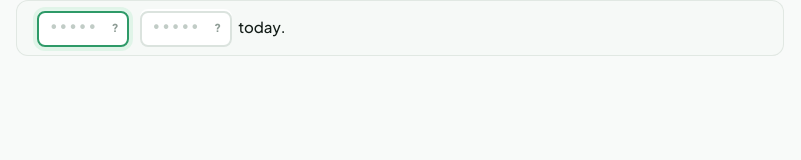
it: FillInBlanksDictation › updates enterKeyHint to 'done' on the remaining editable blank when the last blank is locked via hint
Step 1. Click the button named "reveal hint" → (218, 28), box [208,18,228,38]
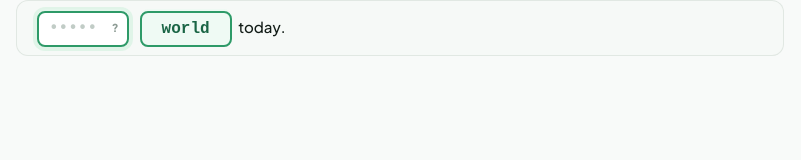
Expected: the field named "Blank 2" has attribute readonly, [140,11,232,47]
Expected: the field named "Blank 2" has class "text-center", [140,11,232,47]
